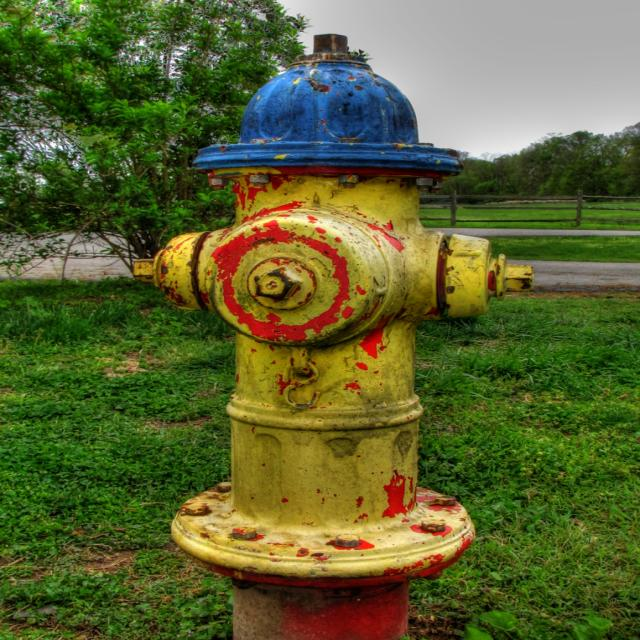fire_hydrant: (130, 34, 534, 639)
